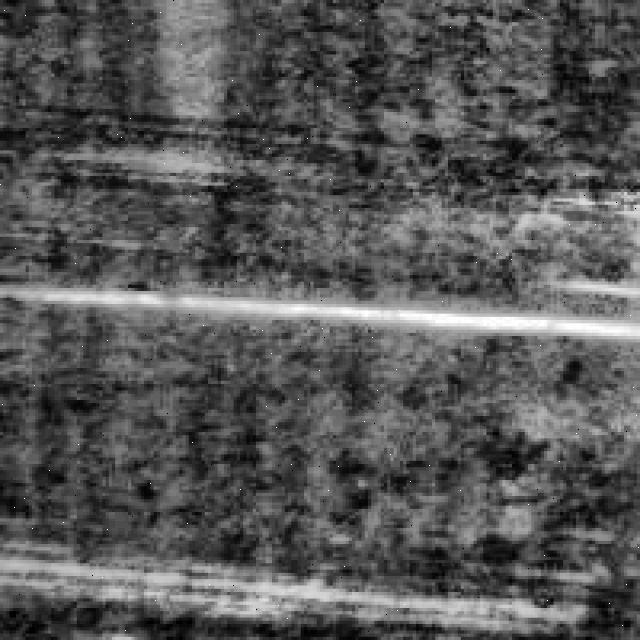Inclusion: (3, 259, 634, 339), (102, 556, 573, 628)
